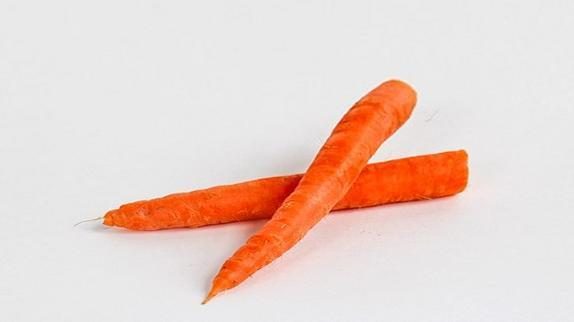carrot: (189, 73, 426, 299), (53, 146, 503, 216)
